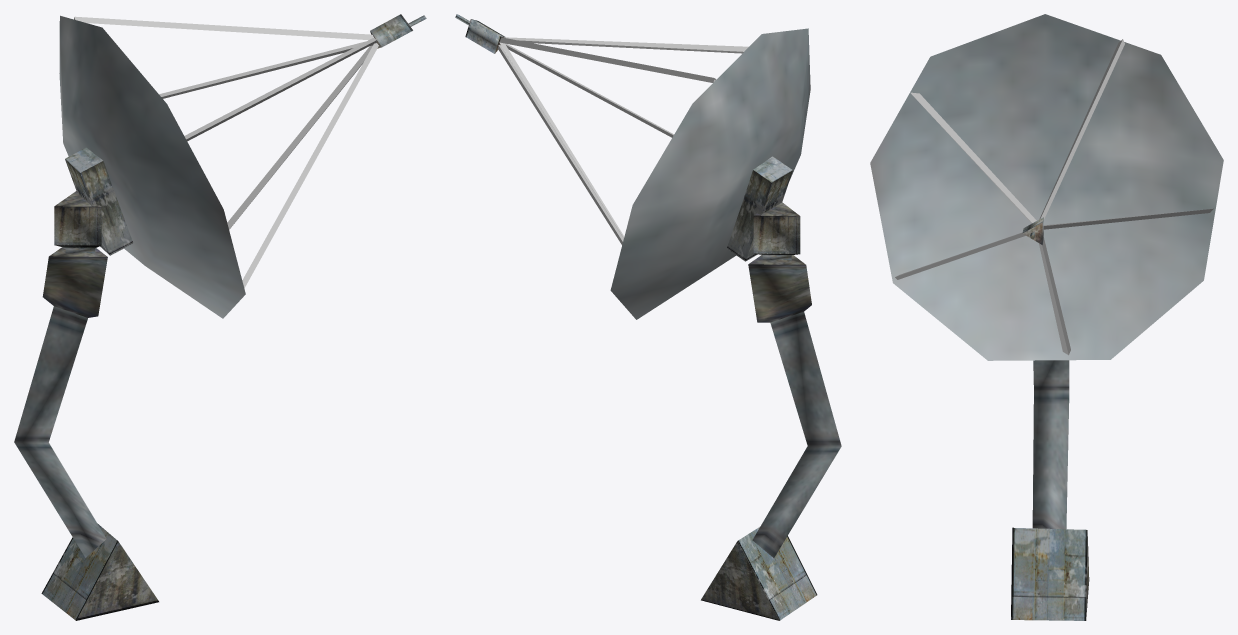
File: Dish_1.fbx
3 views of the same model, side by side, from view 1: azimuth 30°, elevation 25°; view 2: azimuth 150°, elevation 25°; view 3: azimuth 270°, elevation 25° (orthographic). The views are drawn at different scales.
Parts seen in each view (by area): view 1: Dish_1; view 2: Dish_1; view 3: Dish_1.
Part boxes in pixels (bbox=[...]): Dish_1: bbox=[14, 14, 426, 620]; Dish_1: bbox=[455, 14, 841, 620]; Dish_1: bbox=[870, 14, 1223, 620].
Size of the model in its own units: 114 by 155 by 84.72.
